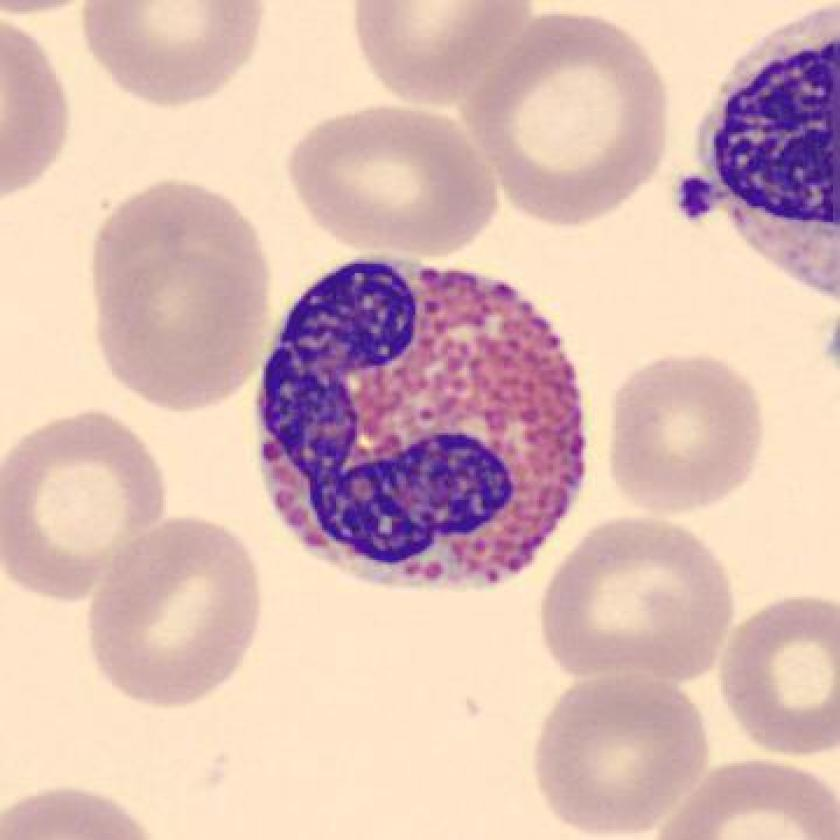eosinophil: (244, 242, 598, 605)
